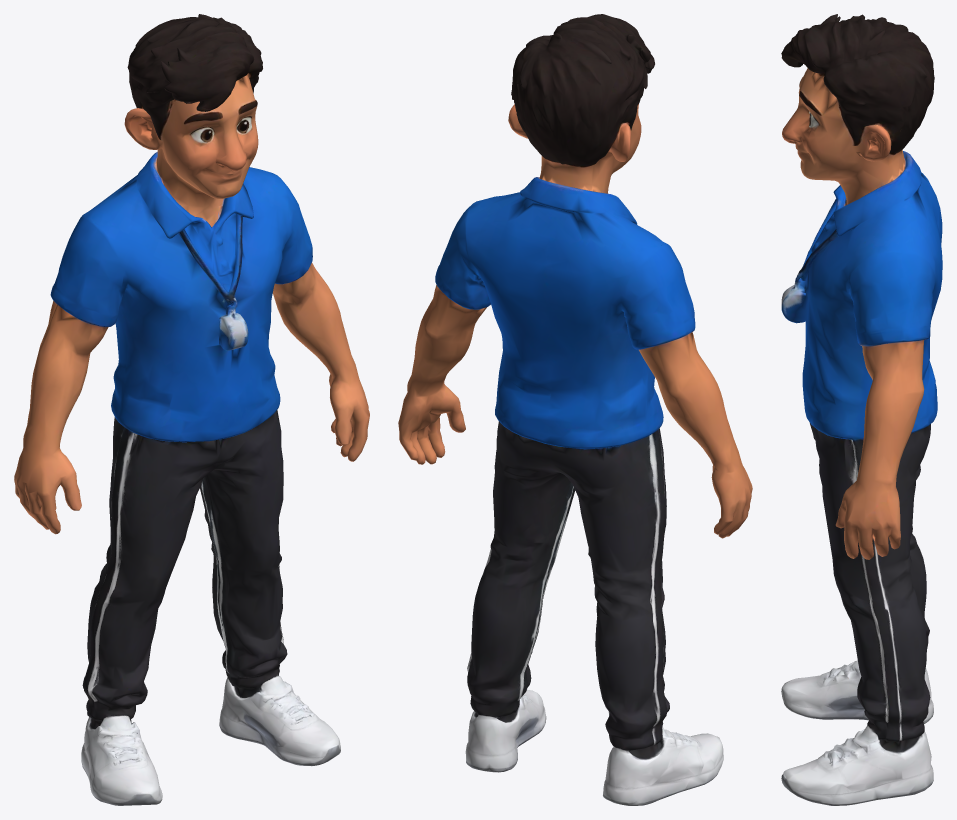
The model's file is pe_teacher.glb.
The picture shows the model from 3 angles, left to right: view 1: azimuth 30°, elevation 25°; view 2: azimuth 150°, elevation 25°; view 3: azimuth 270°, elevation 25°; orthographic projection.
Parts seen in each view (by area): view 1: tripo_node_2a696c4e-1fe0-4f9a-9136-9316bef7c6e2; view 2: tripo_node_2a696c4e-1fe0-4f9a-9136-9316bef7c6e2; view 3: tripo_node_2a696c4e-1fe0-4f9a-9136-9316bef7c6e2.
Boxes of the visible parts, box(x1,y1,x2,y2) form: tripo_node_2a696c4e-1fe0-4f9a-9136-9316bef7c6e2: box(14, 14, 369, 805); tripo_node_2a696c4e-1fe0-4f9a-9136-9316bef7c6e2: box(398, 14, 752, 805); tripo_node_2a696c4e-1fe0-4f9a-9136-9316bef7c6e2: box(781, 14, 942, 805).
Size of the model in its own units: 0.4869 by 0.9999 by 0.2003.
1 material, 1 textured.
